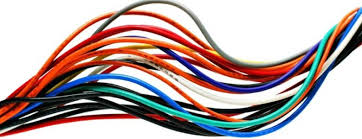more_tube: (220, 3, 350, 139), (103, 6, 210, 137), (3, 20, 97, 139)
